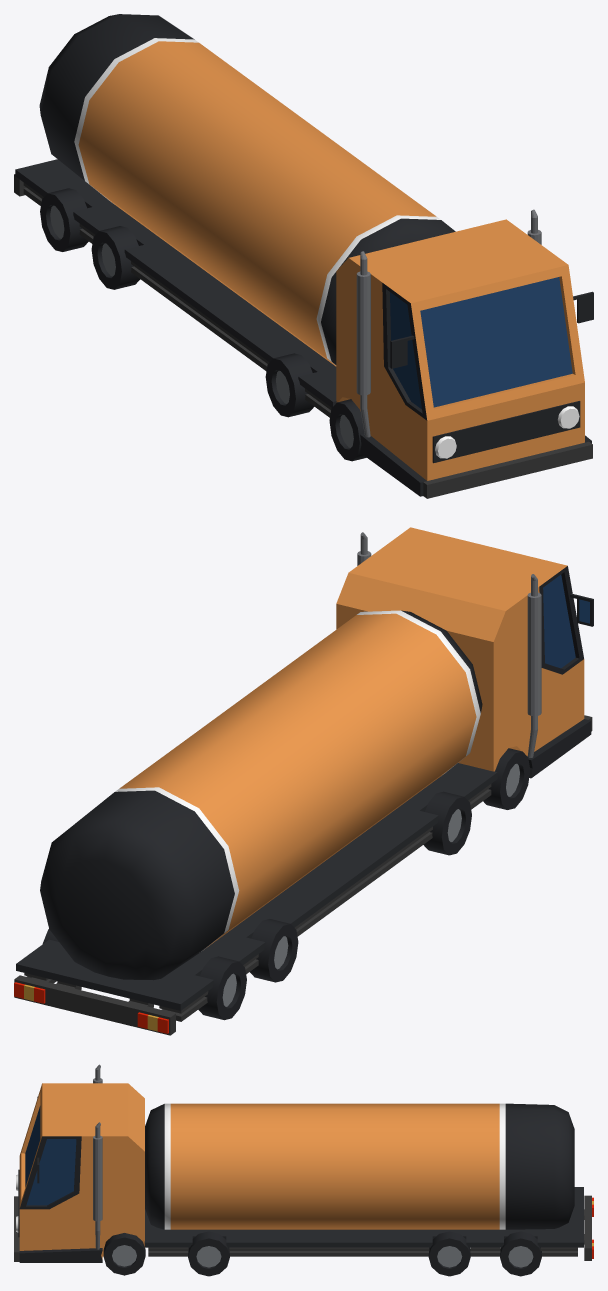
The model's file is Fuel Truck_1.fbx.
The picture shows the model from 3 angles, top to bottom: view 1: azimuth 30°, elevation 25°; view 2: azimuth 150°, elevation 25°; view 3: azimuth 270°, elevation 25°; orthographic projection. The views are drawn at different scales.
Parts seen in each view (by area): view 1: Fuel Truck_1; view 2: Fuel Truck_1; view 3: Fuel Truck_1.
Part boxes in pixels (x1,y1,x2,y2): Fuel Truck_1: (14,14,593,498); Fuel Truck_1: (14,527,593,1035); Fuel Truck_1: (14,1064,593,1276).
Bounding box in the file's own units: 228 × 239 × 820.
